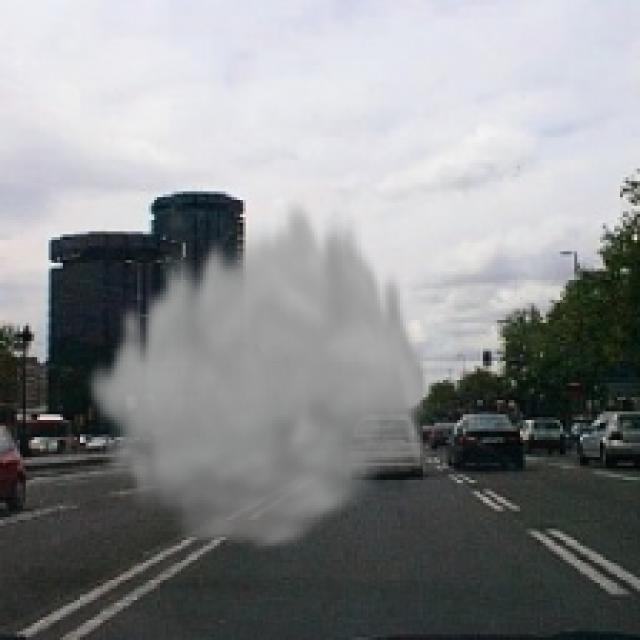smoke: (83, 189, 431, 557)
